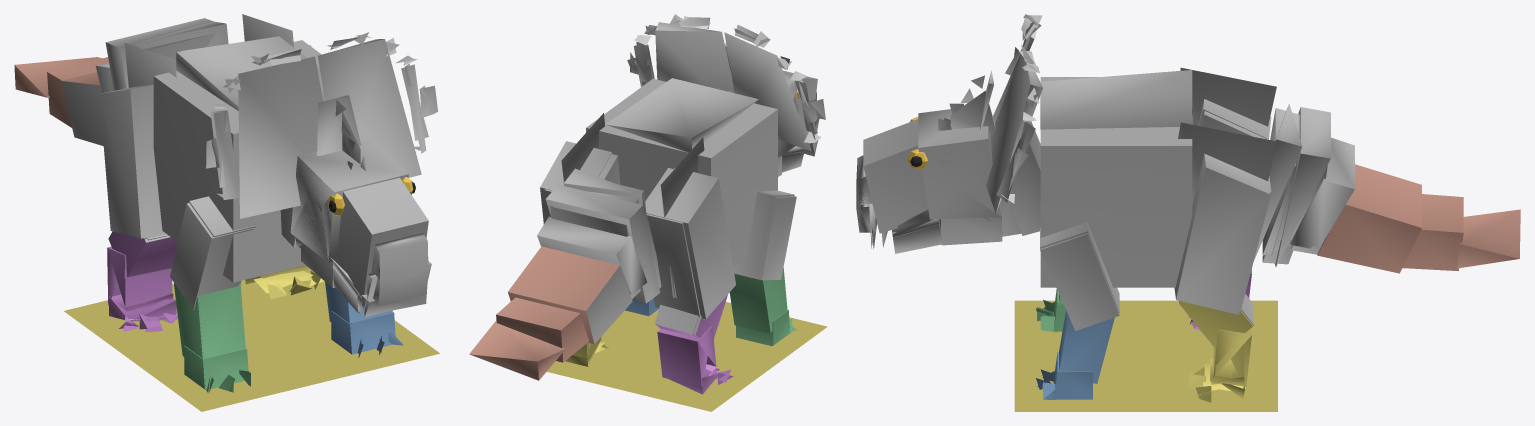
Rendered from proto.fbx.
3 views of the same model, side by side, from view 1: azimuth 30°, elevation 25°; view 2: azimuth 150°, elevation 25°; view 3: azimuth 270°, elevation 25° (orthographic). The views are drawn at different scales.
Visible parts, largest first — view 1: proto_Body, proto_LegBL, proto_LegFR, proto_LegBR, proto_Tail, proto_LegFL; view 2: proto_Body, proto_LegBL, proto_Tail, proto_LegBR, proto_LegFR, proto_LegFL; view 3: proto_Body, proto_LegBL, proto_Tail, proto_LegFL, proto_LegFR.
Part boxes in pixels (x1,y1,x2,y2): proto_Body: [61, 14, 438, 317]; proto_LegBL: [64, 265, 439, 411]; proto_LegFR: [173, 282, 250, 392]; proto_LegBR: [107, 231, 177, 332]; proto_Tail: [14, 57, 108, 127]; proto_LegFL: [325, 282, 403, 357]; proto_Body: [537, 14, 825, 343]; proto_LegBL: [547, 302, 827, 411]; proto_Tail: [469, 246, 619, 380]; proto_LegBR: [655, 294, 733, 394]; proto_LegFR: [729, 268, 796, 346]; proto_LegFL: [625, 298, 658, 316]; proto_Body: [856, 14, 1354, 330]; proto_LegBL: [1014, 300, 1277, 411]; proto_Tail: [1317, 164, 1520, 273]; proto_LegFL: [1036, 310, 1114, 399]; proto_LegFR: [1036, 289, 1065, 332].
Size of the model in its own units: 3.75 by 5.06 by 9.46.
